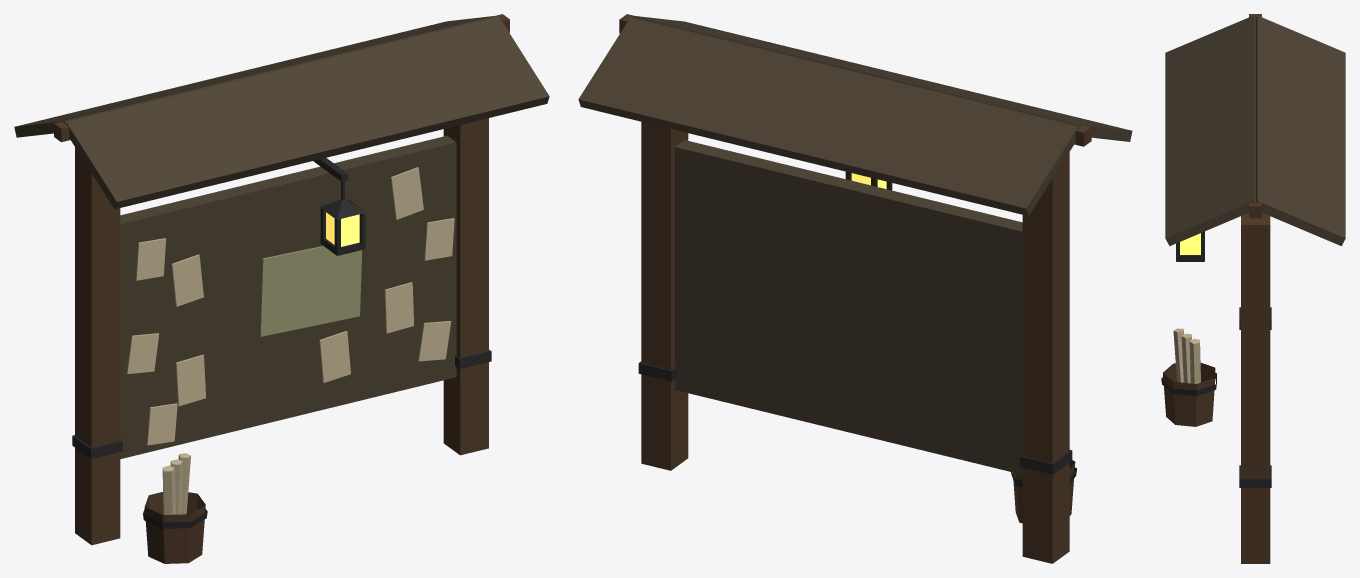
The model's file is notice_board.glb.
3 renders of one model, left to right at view 1: azimuth 30°, elevation 25°; view 2: azimuth 150°, elevation 25°; view 3: azimuth 270°, elevation 25°, orthographic. The views are drawn at different scales.
Parts seen in each view (by area): view 1: Board; view 2: Board; view 3: Board.
Boxes of the visible parts, left/top/right/bottom form: Board: left=14, top=14, right=549, bottom=563; Board: left=578, top=14, right=1132, bottom=563; Board: left=1161, top=14, right=1345, bottom=563.
Size of the model in its own units: 2.8 by 2.51 by 1.13.
